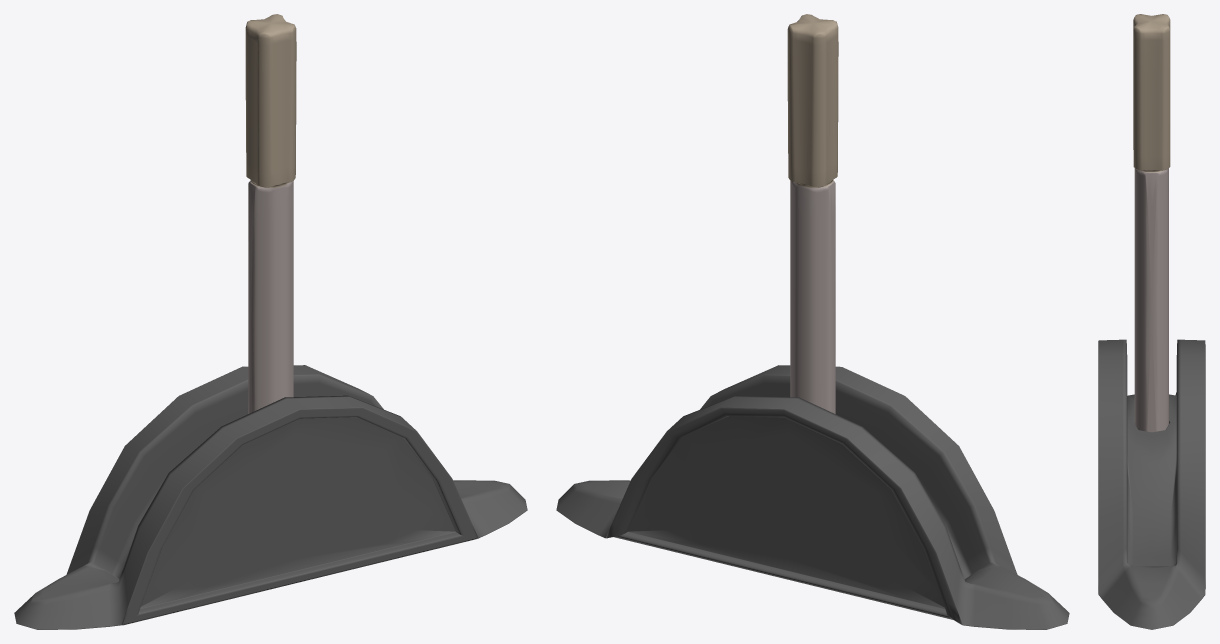
The model's file is Lever1.fbx.
3 views of the same model, side by side, from view 1: azimuth 30°, elevation 25°; view 2: azimuth 150°, elevation 25°; view 3: azimuth 270°, elevation 25° (orthographic). The views are drawn at different scales.
Parts seen in each view (by area): view 1: pCylinder3, pCube4; view 2: pCylinder3, pCube4; view 3: pCylinder3, pCube4.
Part boxes in pixels (box(x1,y1,x2,y2)): pCylinder3: box(14, 365, 527, 629); pCube4: box(245, 14, 296, 413); pCylinder3: box(556, 365, 1069, 629); pCube4: box(787, 14, 838, 413); pCylinder3: box(1098, 339, 1205, 629); pCube4: box(1133, 14, 1170, 432).
Bounding box in the file's own units: 0.8175 × 0.8268 × 0.162.
